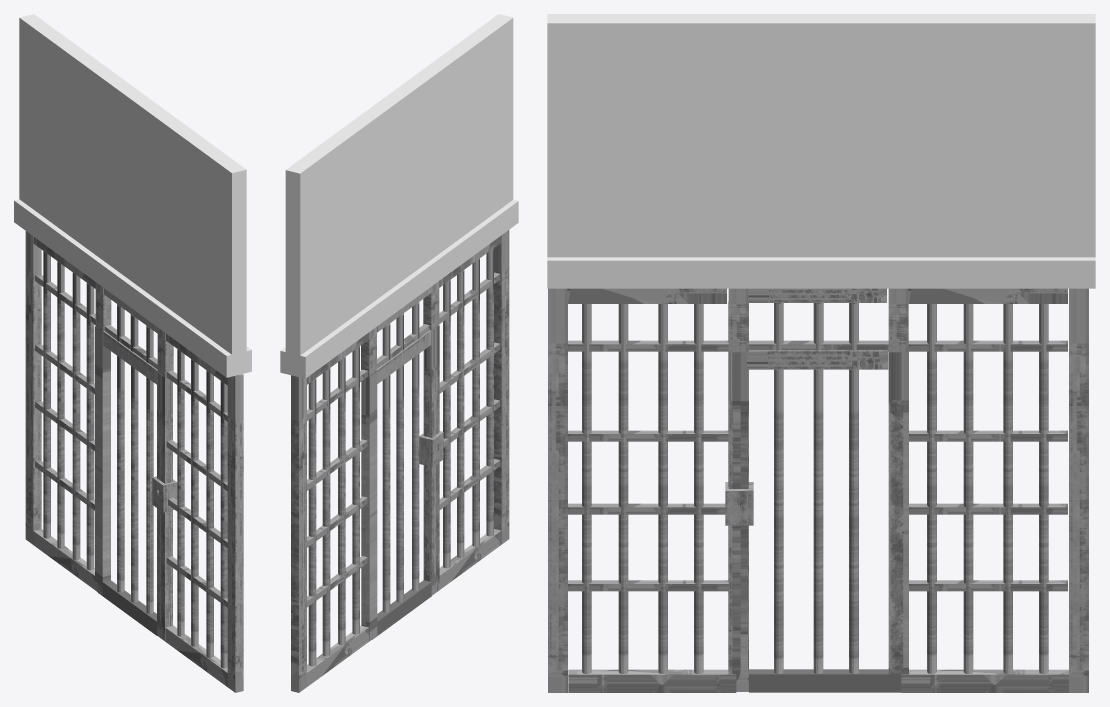
File: PrisonDoor.fbx
3 renders of one model, left to right at view 1: azimuth 30°, elevation 25°; view 2: azimuth 150°, elevation 25°; view 3: azimuth 270°, elevation 25°, orthographic. The views are drawn at different scales.
Parts seen in each view (by area): view 1: Door.004, Door.003; view 2: Door.004, Door.003; view 3: Door.004, Door.003.
Boxes of the visible parts, bbox=[...] form: Door.004: bbox=[14, 14, 251, 692]; Door.003: bbox=[95, 326, 177, 640]; Door.004: bbox=[280, 14, 518, 692]; Door.003: bbox=[361, 325, 443, 641]; Door.004: bbox=[547, 14, 1095, 692]; Door.003: bbox=[725, 350, 908, 692].
Size of the model in its own units: 0.4076 by 8.05 by 5.96.
